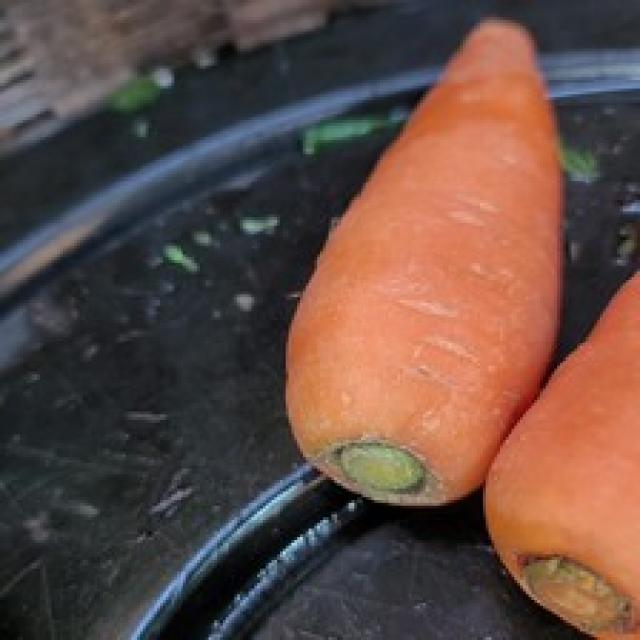carrot: (284, 15, 565, 503), (482, 257, 640, 639)
